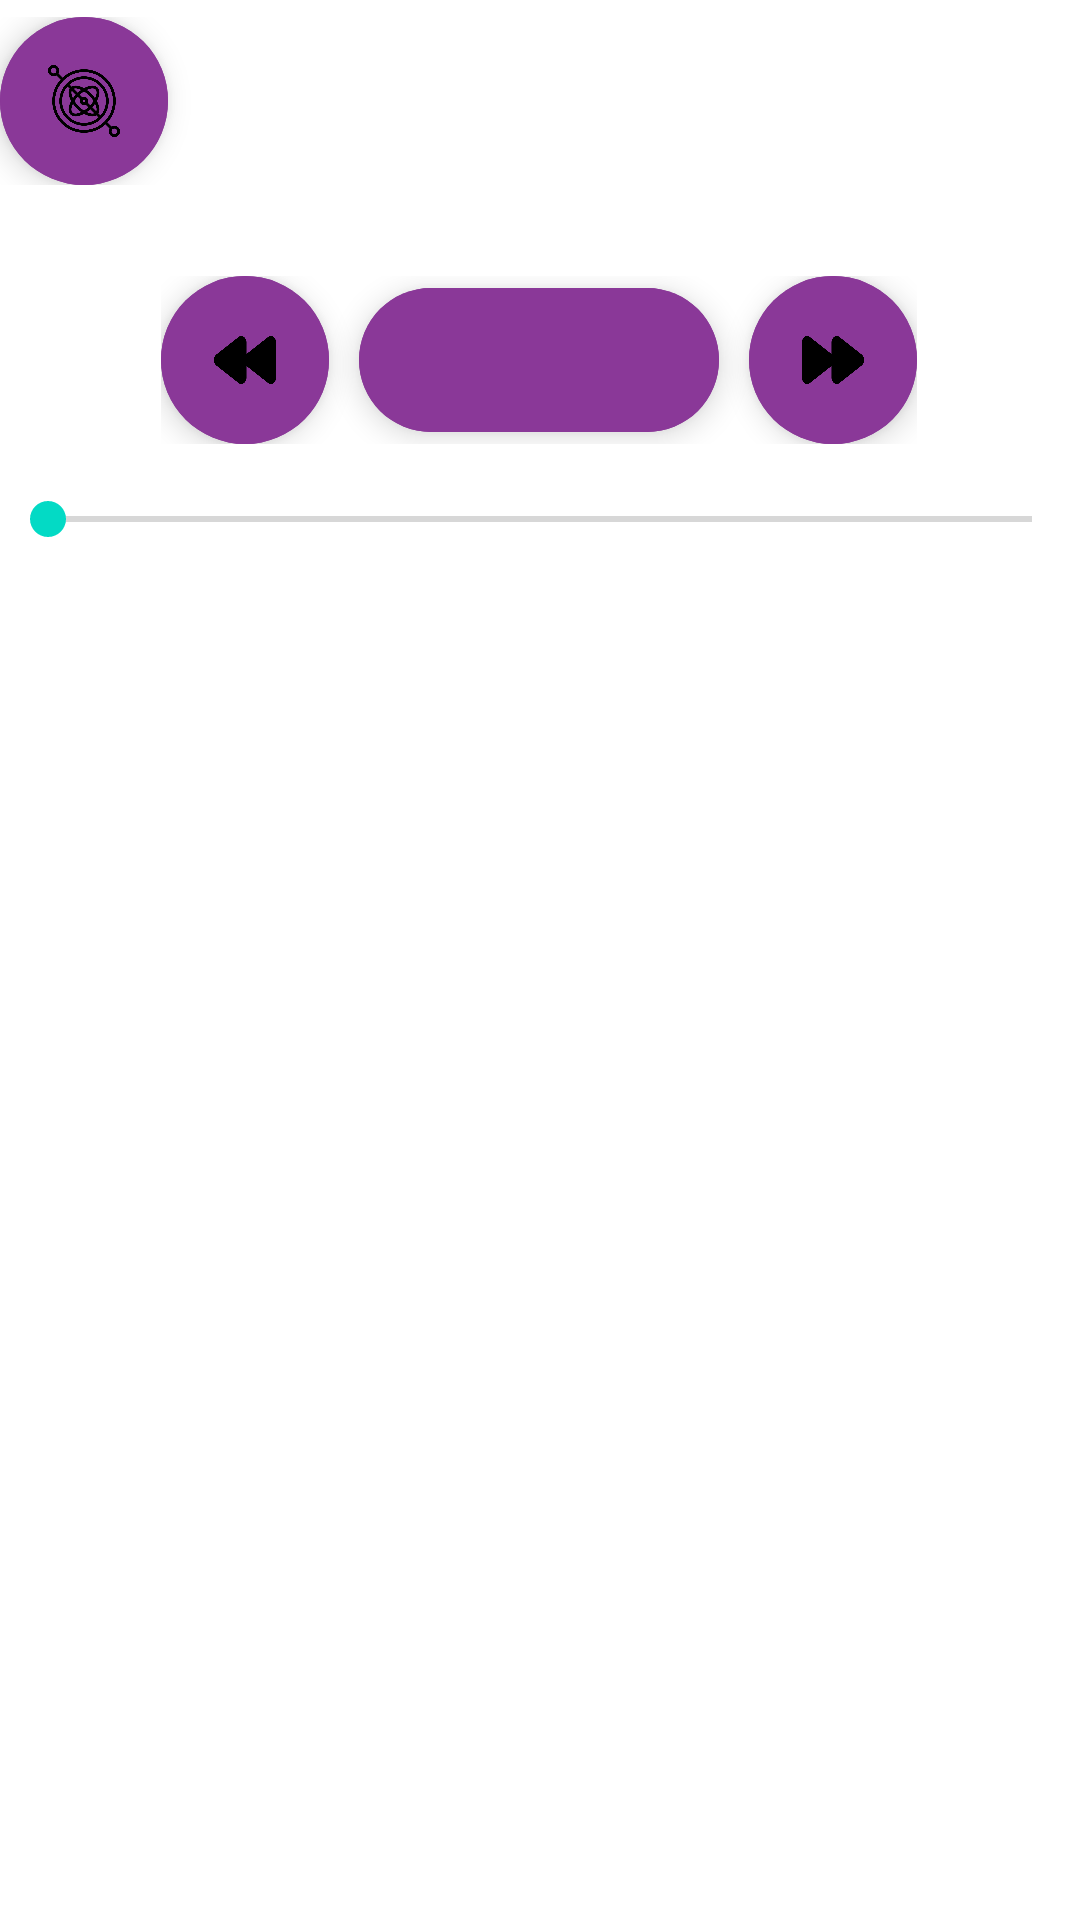

Icon bounding boxes for this 1080×1920 phone screenshot, format (x1, y1, x2, y2):
next: (749, 276, 917, 444)
previous: (161, 276, 329, 444)
